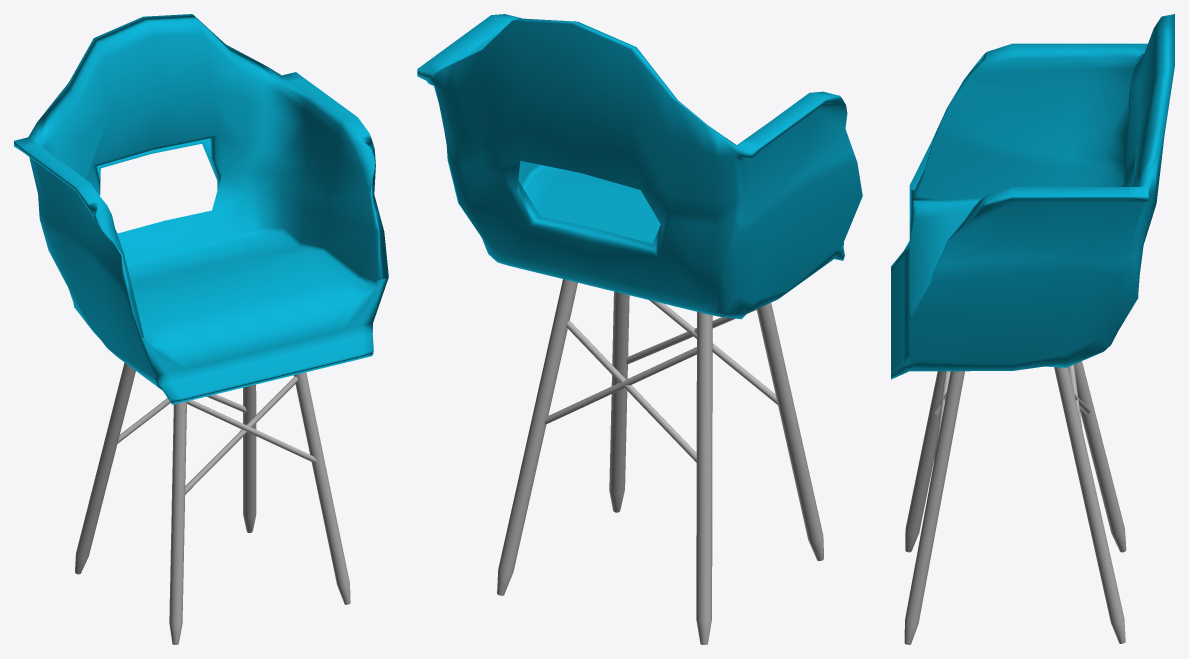
The model's file is chair_blue.fbx.
The picture shows the model from 3 angles, left to right: view 1: azimuth 30°, elevation 25°; view 2: azimuth 150°, elevation 25°; view 3: azimuth 270°, elevation 25°; orthographic projection. The views are drawn at different scales.
Visible parts, largest first — view 1: cafechair; view 2: cafechair; view 3: cafechair.
Part boxes in pixels (x1=…): cafechair: x1=14, y1=14, x2=388, y2=644; cafechair: x1=417, y1=14, x2=862, y2=644; cafechair: x1=891, y1=14, x2=1174, y2=644.
Bounding box in the file's own units: 3.66 × 6.44 × 2.91.
